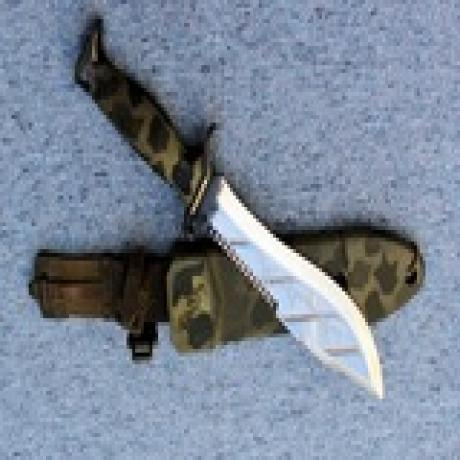weapon: (63, 17, 392, 406)
